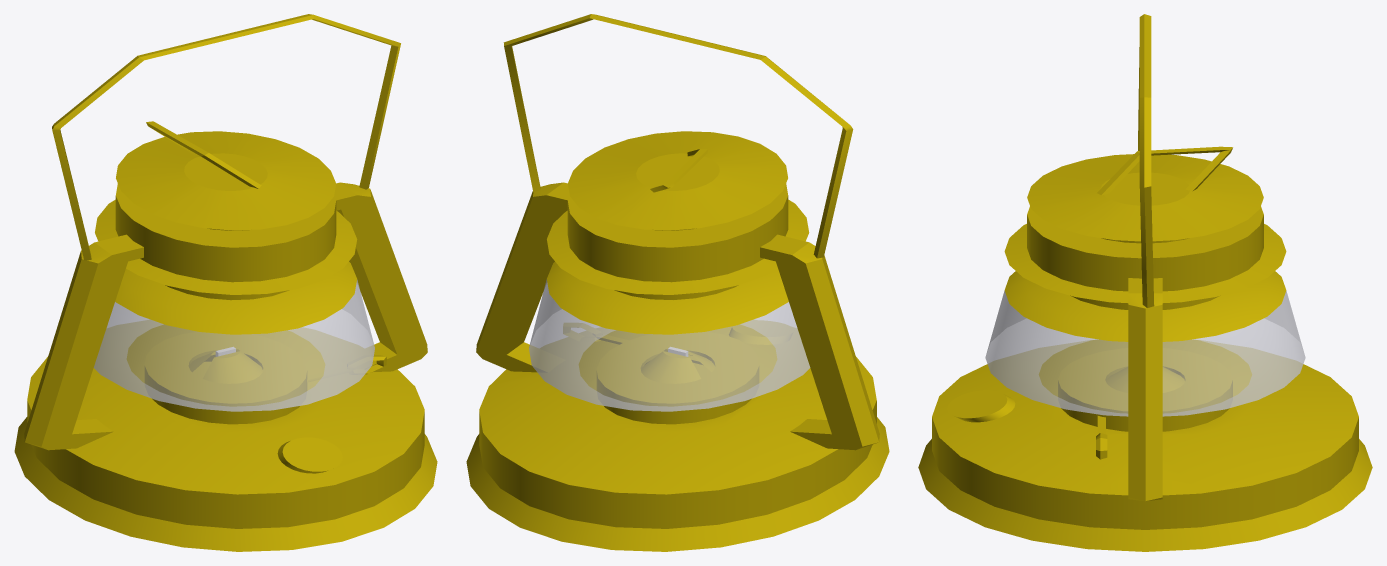
Rendered from sh-contrib-lamp-paraffin-feuerhand.glb.
The picture shows the model from 3 angles, left to right: view 1: azimuth 30°, elevation 25°; view 2: azimuth 150°, elevation 25°; view 3: azimuth 270°, elevation 25°; orthographic projection. The views are drawn at different scales.
Visible parts, largest first — view 1: 9_9_9, 12_12_12; view 2: 9_9_9, 12_12_12; view 3: 9_9_9, 12_12_12.
Boxes of the visible parts, box(x1,y1,x2,y2) form: 9_9_9: box(14, 14, 437, 551); 12_12_12: box(93, 279, 374, 411); 9_9_9: box(466, 14, 889, 551); 12_12_12: box(529, 279, 810, 411); 9_9_9: box(918, 14, 1372, 551); 12_12_12: box(985, 291, 1305, 416).
Bounding box in the file's own units: 1 × 1 × 1.
